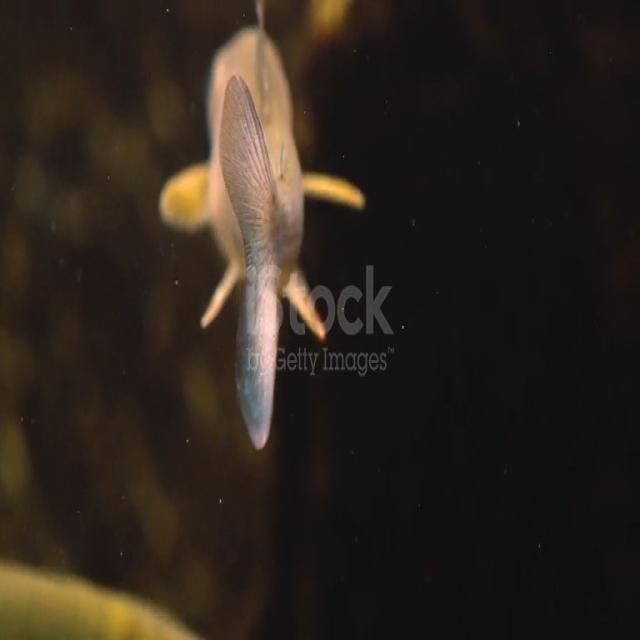fish: (147, 0, 363, 471)
